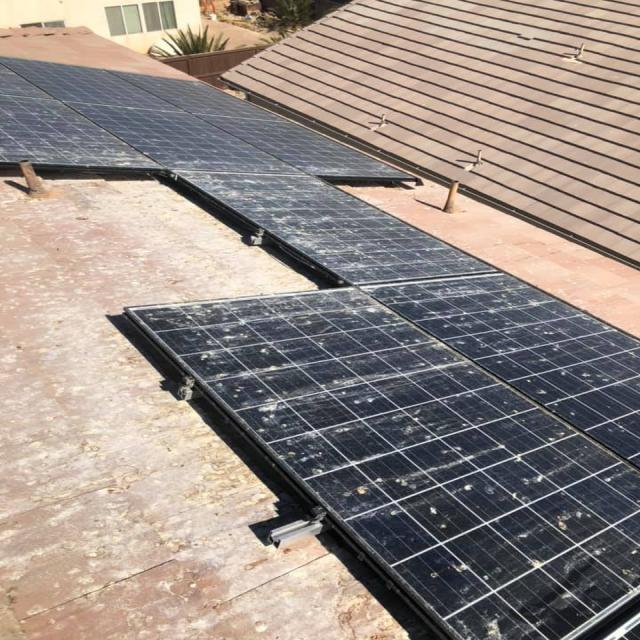dust-solar-panel: (0, 56, 640, 640)
